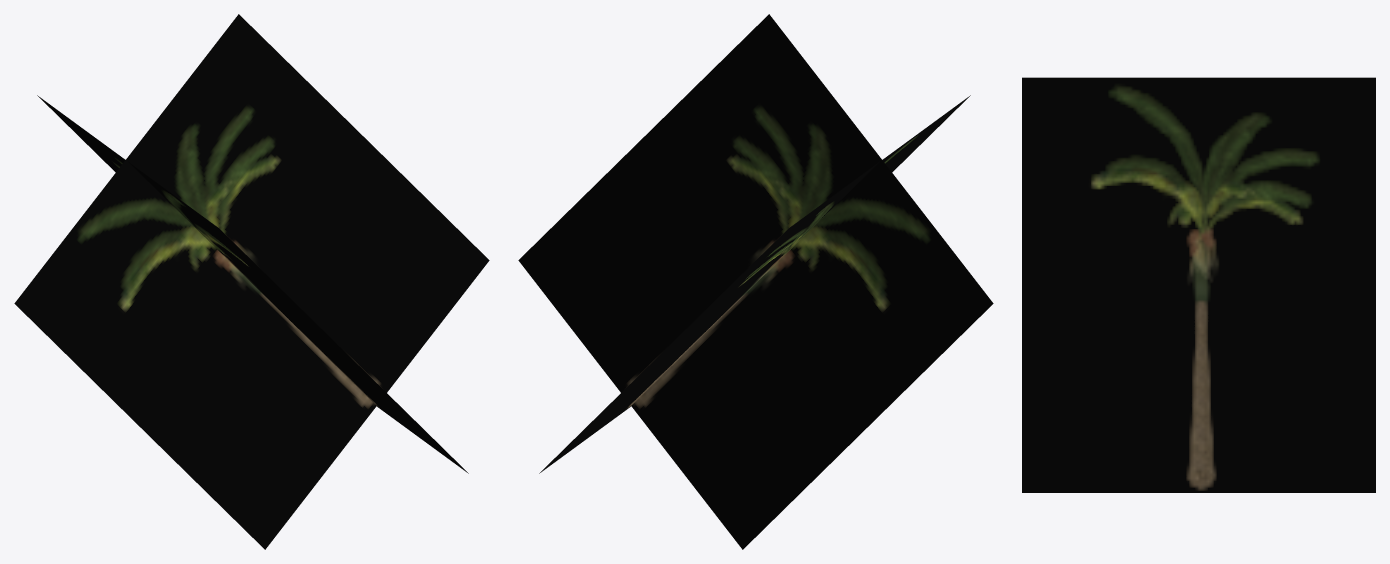
Rendered from kiV2_2s_LOD2.fbx.
3 renders of one model, left to right at view 1: azimuth 30°, elevation 25°; view 2: azimuth 150°, elevation 25°; view 3: azimuth 270°, elevation 25°, orthographic. The views are drawn at different scales.
Visible parts, largest first — view 1: kiV2_LOD2; view 2: kiV2_LOD2; view 3: kiV2_LOD2.
Boxes of the visible parts, bbox=[...] form: kiV2_LOD2: bbox=[14, 14, 489, 549]; kiV2_LOD2: bbox=[518, 14, 993, 549]; kiV2_LOD2: bbox=[1022, 77, 1375, 492].
Bounding box in the file's own units: 6069 × 6619 × 4052.
